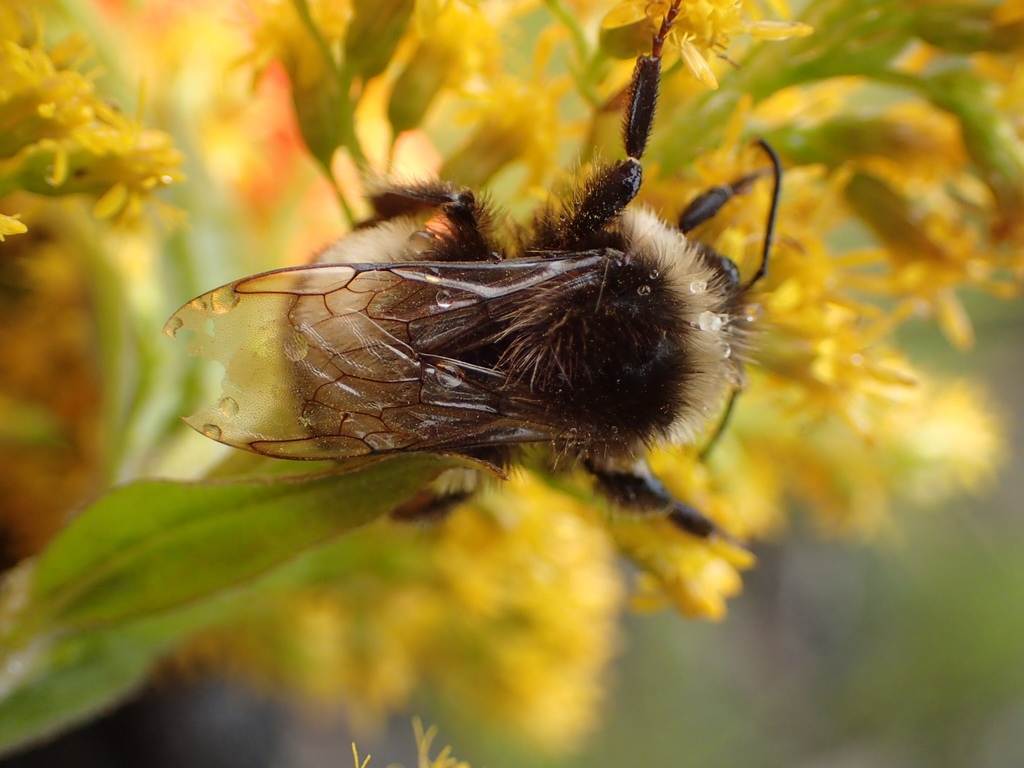bumblebee: (162, 3, 783, 545)
